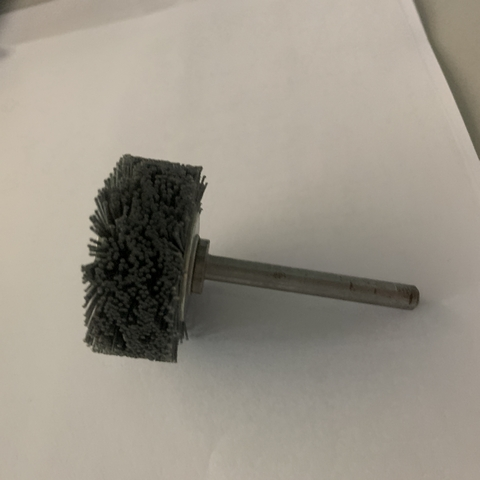Wheel Brush: (72, 142, 438, 368), (99, 153, 428, 355), (67, 150, 337, 374), (72, 151, 220, 301)
